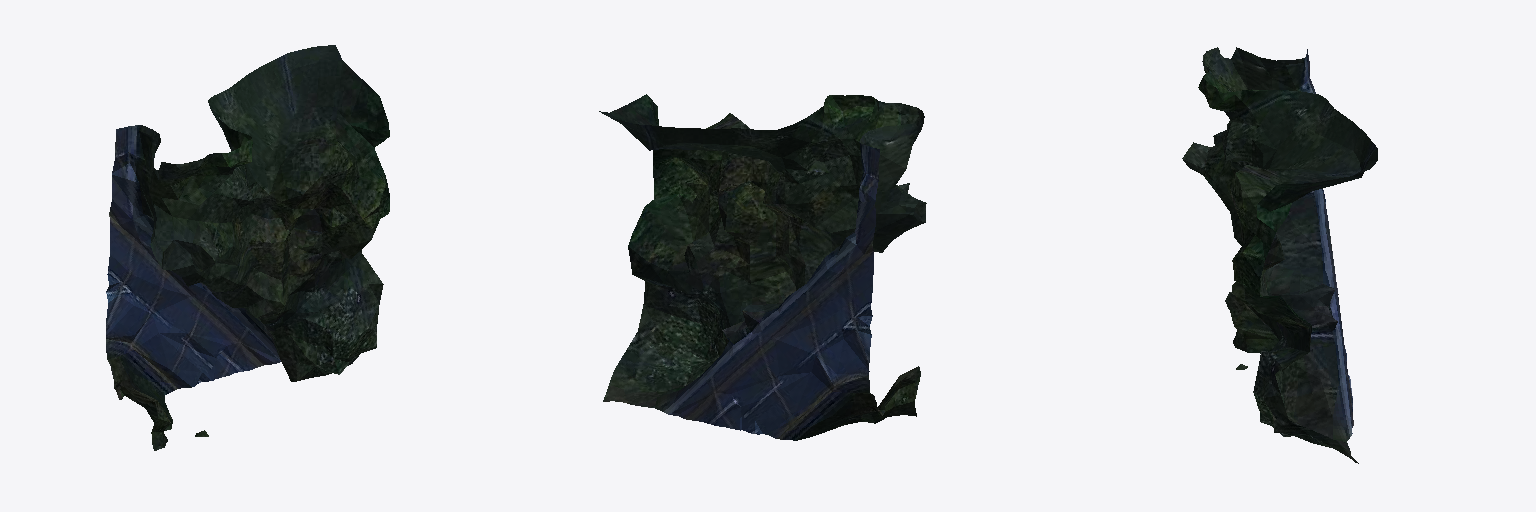
3 renders of one model, left to right at view 1: azimuth 30°, elevation 25°; view 2: azimuth 150°, elevation 25°; view 3: azimuth 270°, elevation 25°, orthographic.
Visible parts, largest first — view 1: obj_0; view 2: obj_0; view 3: obj_0.
Part boxes in pixels (bbox=[...]): obj_0: bbox=[106, 45, 389, 450]; obj_0: bbox=[599, 94, 926, 440]; obj_0: bbox=[1182, 47, 1377, 463].
Bounding box in the file's own units: 20.11 × 22.53 × 13.57.
Materials: 1 (1 with a texture image).